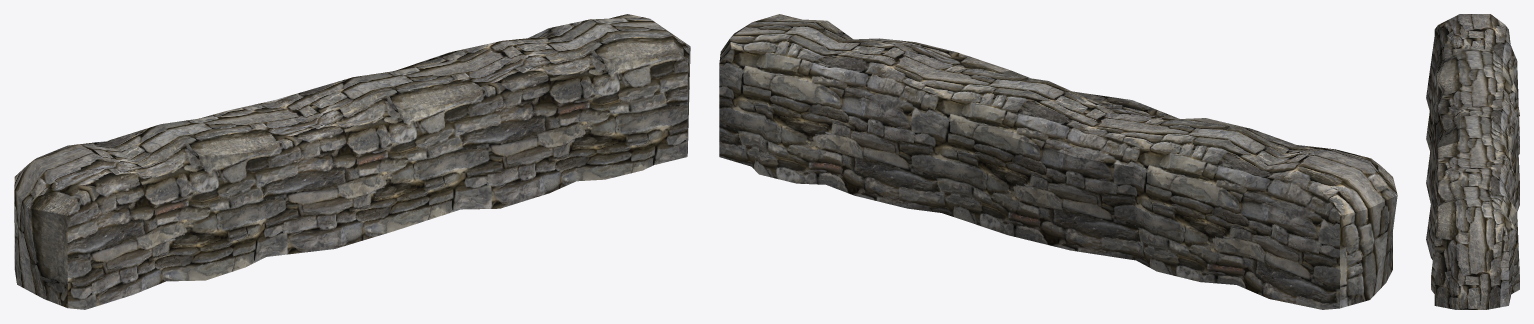
File: v-wall.fbx
3 views of the same model, side by side, from view 1: azimuth 30°, elevation 25°; view 2: azimuth 150°, elevation 25°; view 3: azimuth 270°, elevation 25° (orthographic). The views are drawn at different scales.
Parts seen in each view (by area): view 1: Mesh; view 2: Mesh; view 3: Mesh.
Boxes of the visible parts, x1,y1,x2,y2 form: Mesh: [14, 14, 690, 309]; Mesh: [719, 14, 1397, 309]; Mesh: [1426, 14, 1519, 309].
Size of the model in its own units: 1101 by 194 by 193.
